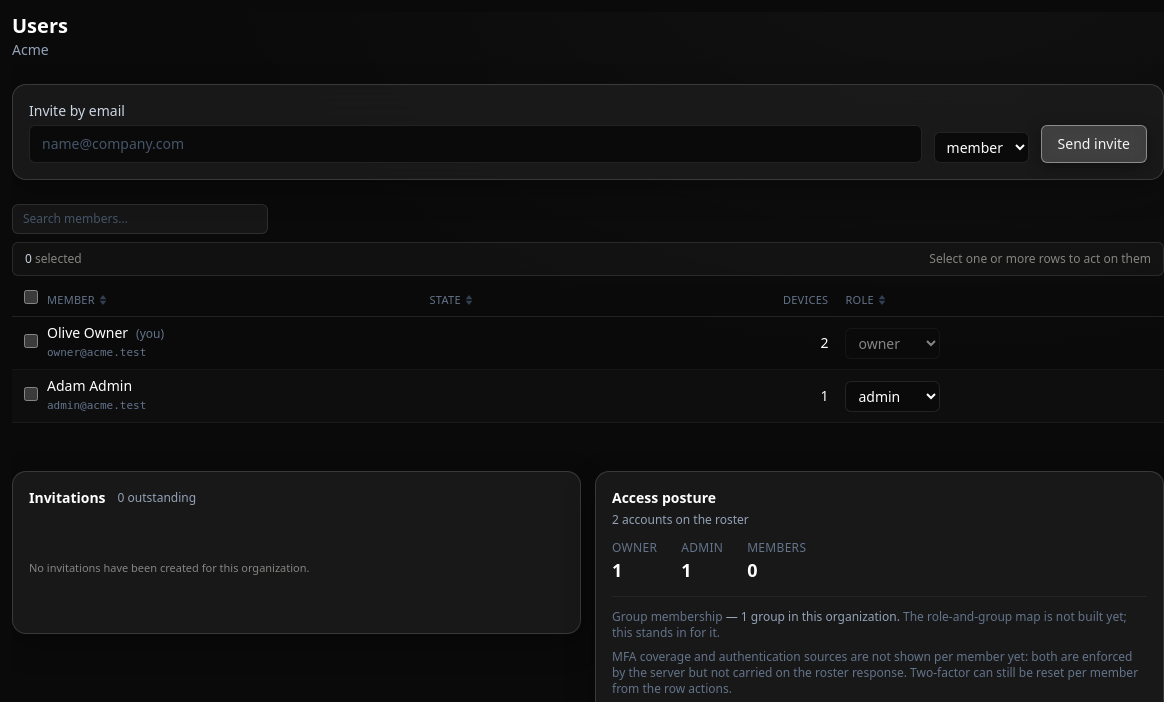
Test: Users — the filter › filters by email, and its empty state is NOT the roster's
Check: the text "admin@acme.test" is shown, box [47,399,146,412]
Type "admin@" into the search field named "Filter Members". click: x=140, y=219
box: [12,204,268,234]
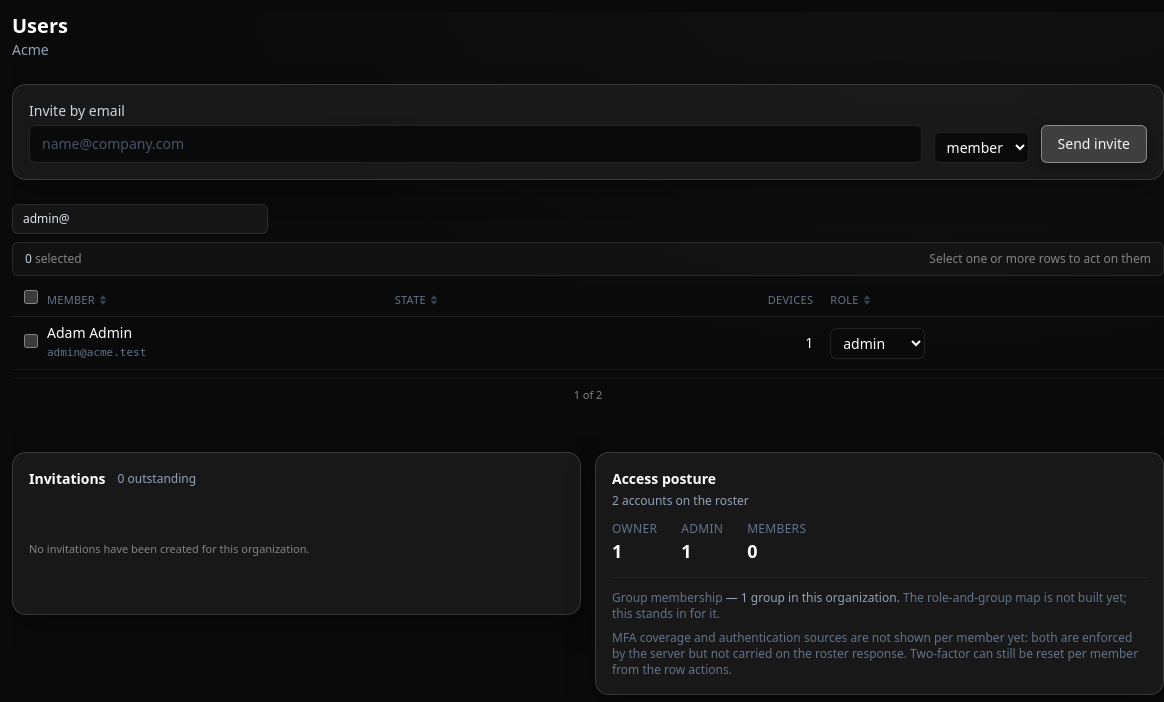
Check: the text "admin@acme.test" is shown, box [47,346,146,359]
Check: the text "owner@acme.test" is gone
Replace the text in the search field named "Filter Members" with "zzz-nobody". click: x=140, y=219
box: [12,204,268,234]
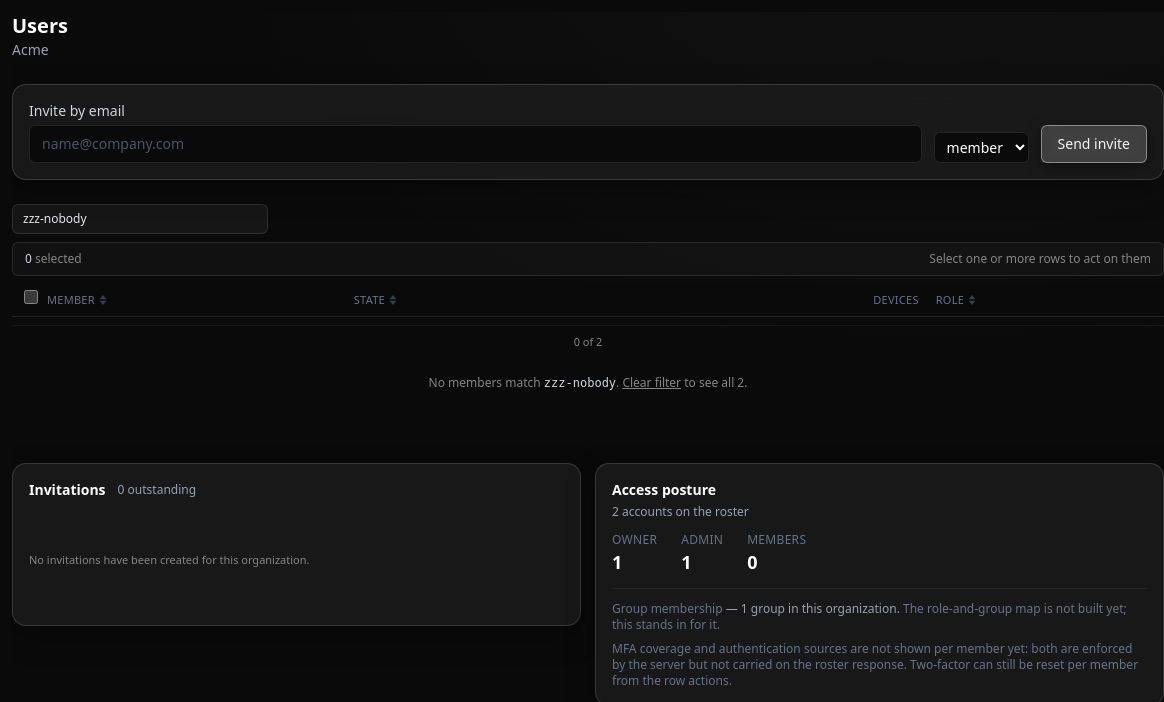
Check: the text "No members match zzz-nobody. Clear filter to see all 2." is shown, box [428,374,747,390]
